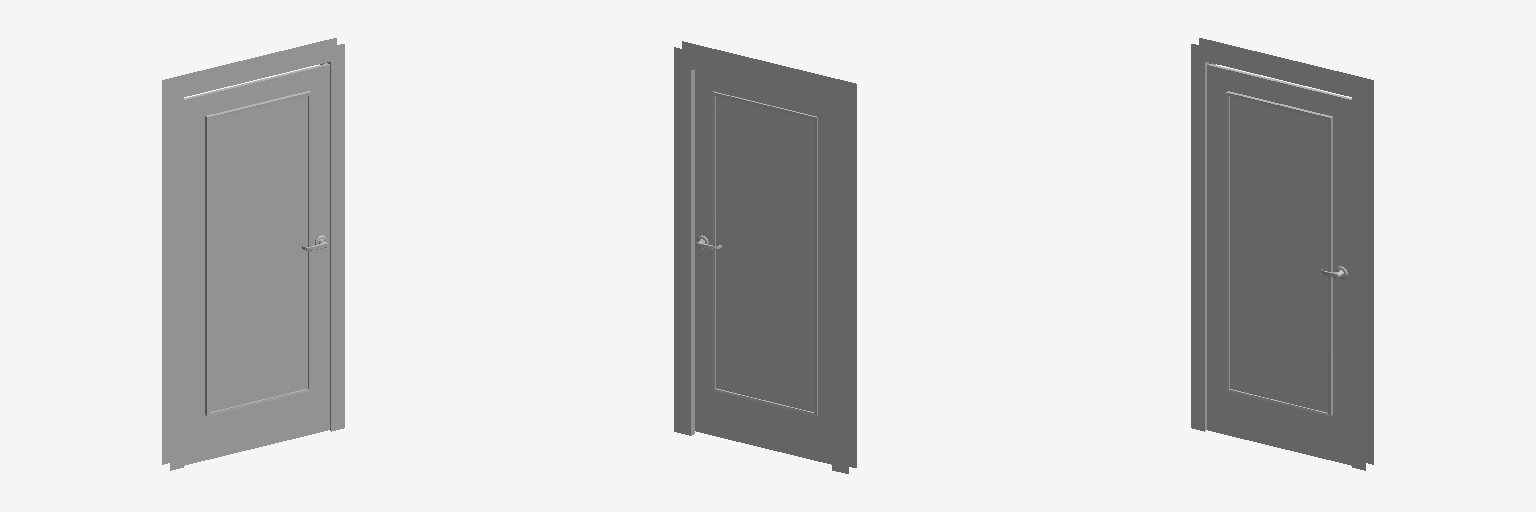
The model's file is DoorWood.obj.
3 renders of one model, left to right at view 1: azimuth 30°, elevation 25°; view 2: azimuth 150°, elevation 25°; view 3: azimuth 330°, elevation 25°, orthographic.
Visible parts, largest first — view 1: Door, DoorFrame; view 2: Door, DoorFrame; view 3: Door, DoorFrame.
Boxes of the visible parts, x1=… form: Door: x1=184, y1=63, x2=329, y2=465; DoorFrame: x1=162, y1=38, x2=344, y2=470; Door: x1=695, y1=71, x2=831, y2=464; DoorFrame: x1=674, y1=41, x2=856, y2=473; Door: x1=1207, y1=64, x2=1351, y2=465; DoorFrame: x1=1191, y1=38, x2=1373, y2=470.
Bounding box in the file's own units: 1 × 2.1 × 0.1307.